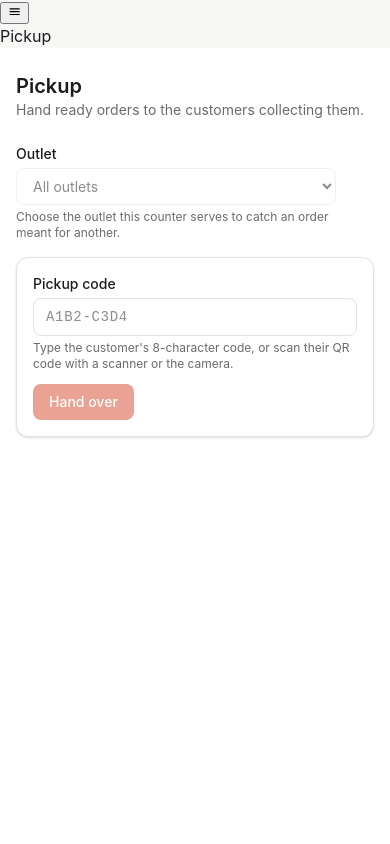
Test: OrganizationPickupPage › the outlet selector › still lets staff hand orders over when the outlets cannot be loaded
The image size is (390, 844).
Expected: the dropdown labelled "Outlet" is disabled, [16,168,336,205]
Type "K7QX-4M2P" into the field labelled "Pickup code" at (195, 317), box [33,298,357,336]
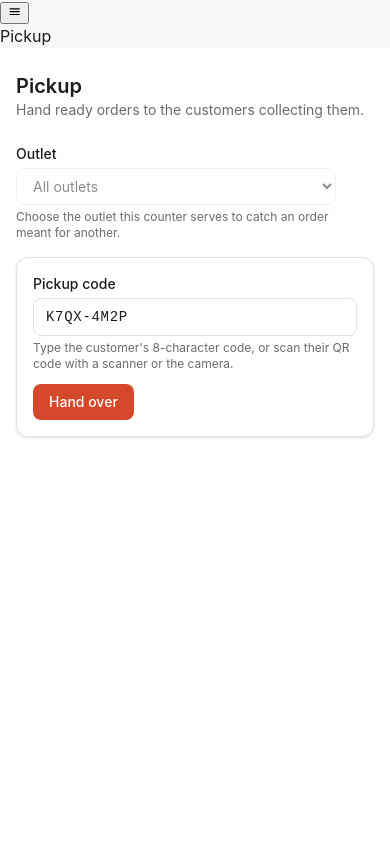
Click the button "Hand over" at (83, 402), box [33,384,134,420]
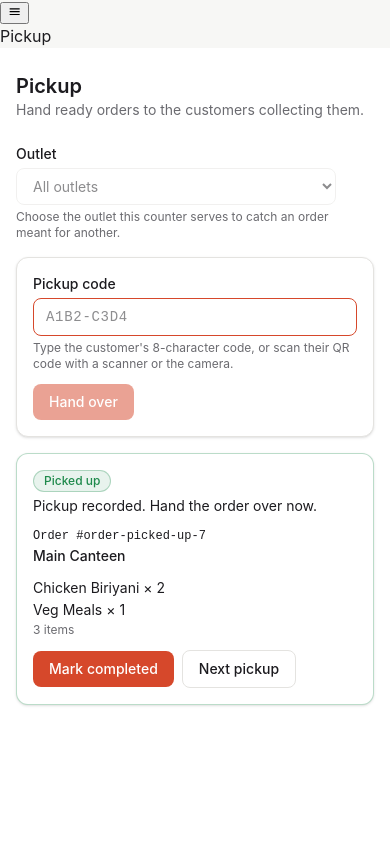
Result: the text "Order #order-picked-up-7" is shown at [33,529,206,543]
